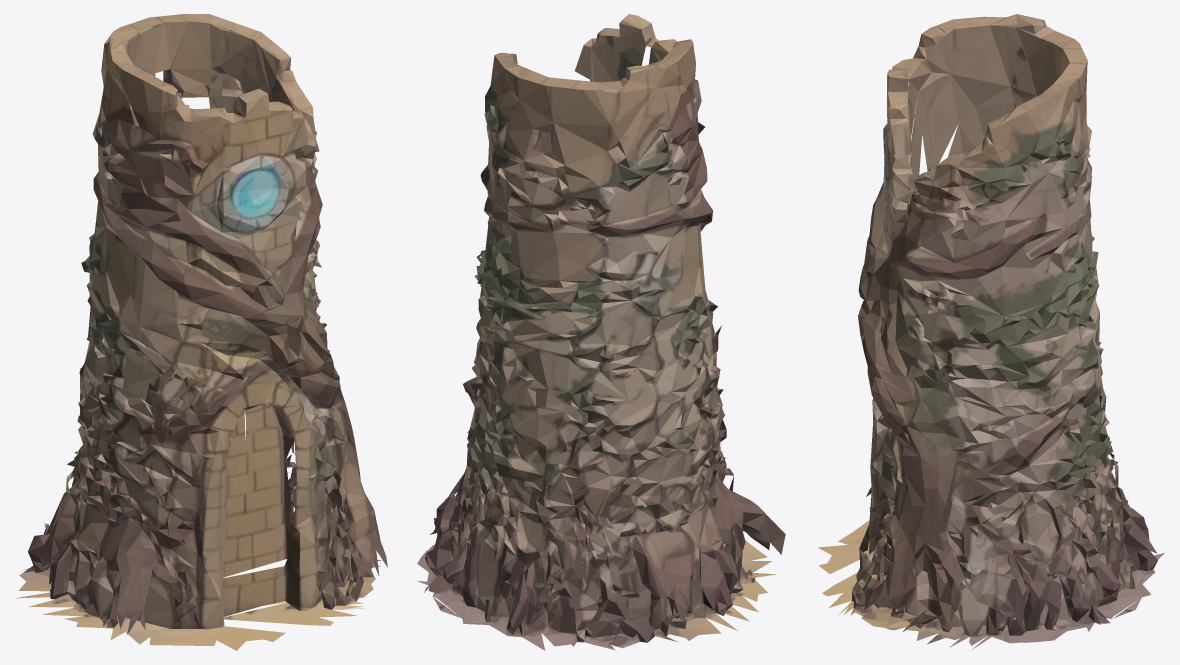
Rendered from forest_tower.glb.
3 views of the same model, side by side, from view 1: azimuth 30°, elevation 25°; view 2: azimuth 150°, elevation 25°; view 3: azimuth 270°, elevation 25° (orthographic). The views are drawn at different scales.
Visible parts, largest first — view 1: geometry_0; view 2: geometry_0; view 3: geometry_0.
Part boxes in pixels (box(x1,y1,x2,y2)): geometry_0: box(15, 14, 387, 650); geometry_0: box(416, 14, 785, 650); geometry_0: box(818, 14, 1164, 649).
Bounding box in the file's own units: 3.23 × 5 × 3.01.
1 material, 1 textured.
